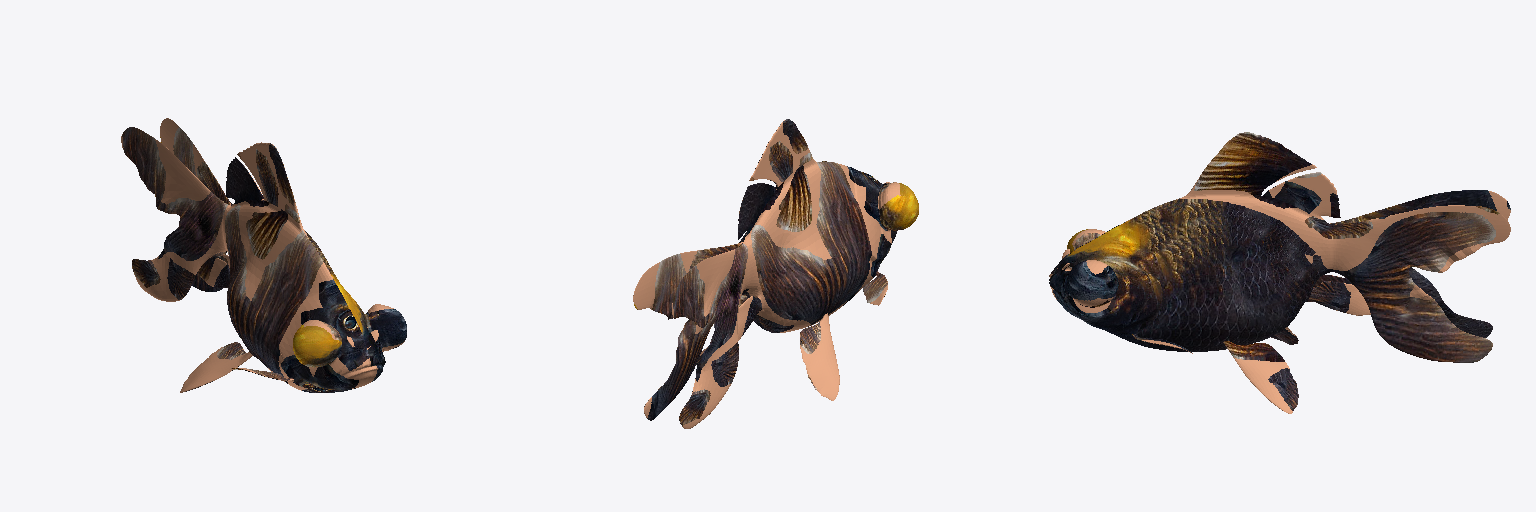
The picture shows the model from 3 angles: view 1: azimuth 30°, elevation 25°; view 2: azimuth 150°, elevation 25°; view 3: azimuth 270°, elevation 25°; orthographic projection.
Visible parts, largest first — view 1: 12990_Black_Moor_Goldfish_v1_l2.001; view 2: 12990_Black_Moor_Goldfish_v1_l2.001; view 3: 12990_Black_Moor_Goldfish_v1_l2.001.
Boxes of the visible parts, box(x1,y1,x2,y2) form: 12990_Black_Moor_Goldfish_v1_l2.001: box(121, 118, 406, 392); 12990_Black_Moor_Goldfish_v1_l2.001: box(633, 119, 918, 428); 12990_Black_Moor_Goldfish_v1_l2.001: box(1049, 132, 1510, 413).
Bounding box in the file's own units: 2.78 × 4.59 × 7.77.
1 materials, 1 textured.